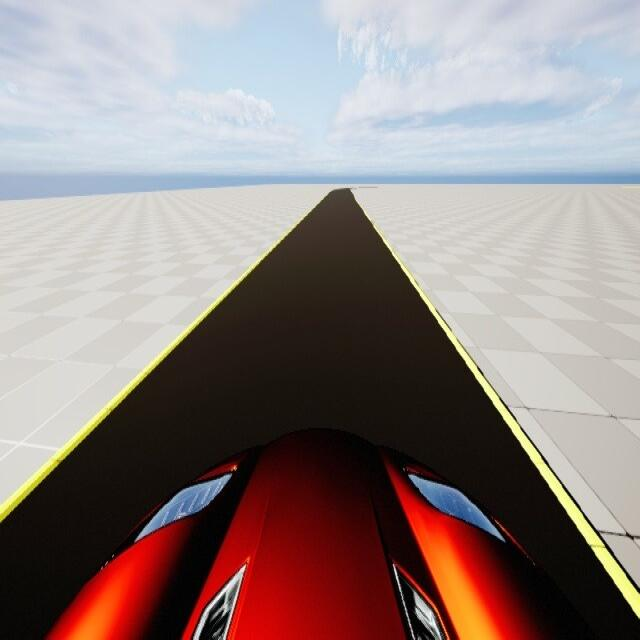lane: (0, 191, 639, 639)
